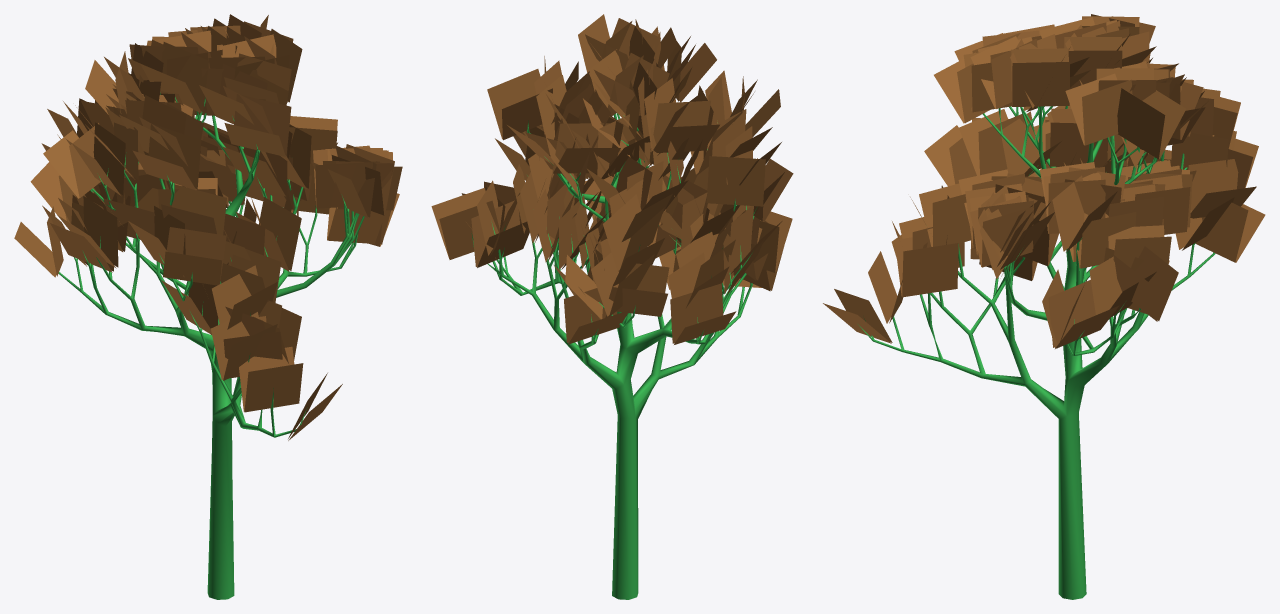
File: tree (1).obj
3 renders of one model, left to right at view 1: azimuth 30°, elevation 25°; view 2: azimuth 150°, elevation 25°; view 3: azimuth 270°, elevation 25°, orthographic.
Parts seen in each view (by area): view 1: twig, tree; view 2: twig, tree; view 3: twig, tree.
Part boxes in pixels (left/top/right/bottom): twig: left=14, top=14, right=402, bottom=440; tree: left=58, top=92, right=364, bottom=599; twig: left=431, top=14, right=793, bottom=344; tree: left=471, top=113, right=757, bottom=599; twig: left=823, top=14, right=1265, bottom=348; tree: left=858, top=106, right=1215, bottom=599.
Size of the model in its own units: 3.82 by 5.97 by 4.31.
